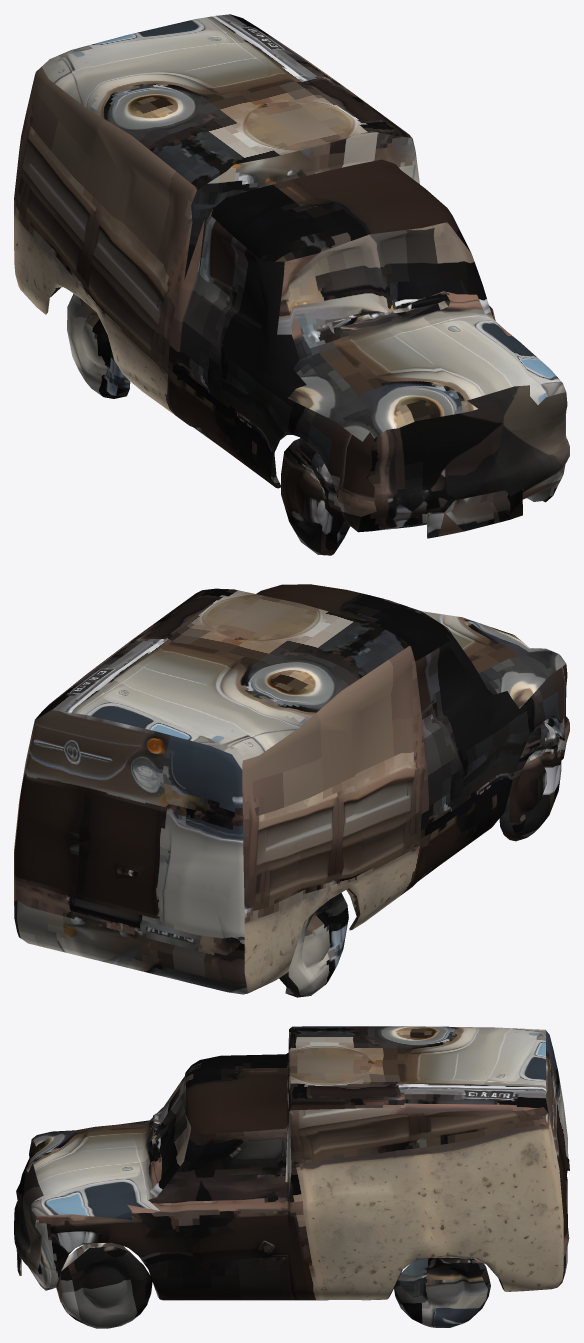
The model's file is seat500_van_low.fbx.
3 renders of one model, top to bottom at view 1: azimuth 30°, elevation 25°; view 2: azimuth 150°, elevation 25°; view 3: azimuth 270°, elevation 25°, orthographic. The views are drawn at different scales.
Visible parts, largest first — view 1: model.006; view 2: model.006; view 3: model.006.
Boxes of the visible parts, x1,y1,x2,y2 form: model.006: (14, 14, 569, 555); model.006: (14, 584, 569, 997); model.006: (14, 1026, 569, 1328).
Size of the model in its own units: 57.7 by 63.3 by 138.
